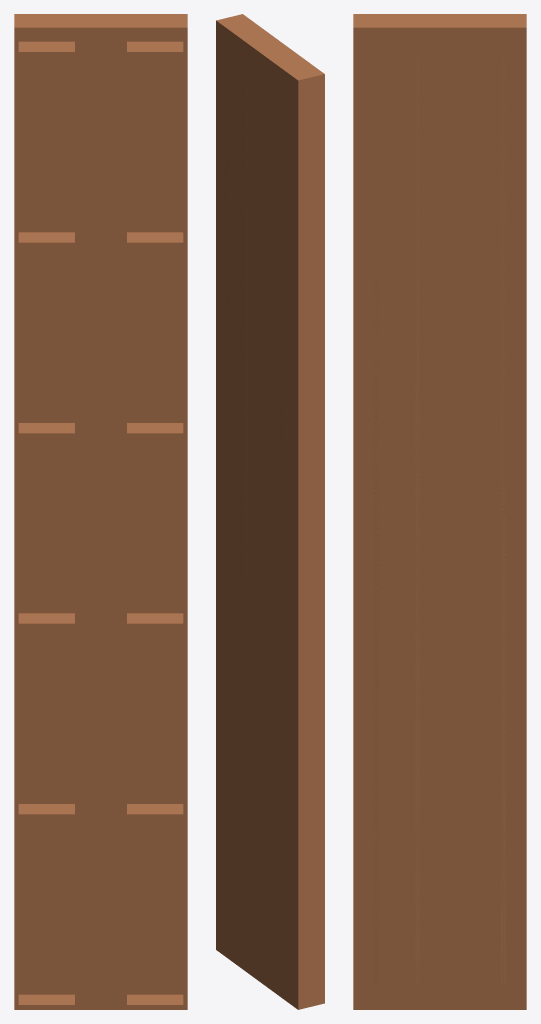
Rendered from side_right.diagnostic.glb.
The picture shows the model from 3 angles, left to right: view 1: azimuth 90°, elevation 25°; view 2: azimuth 210°, elevation 25°; view 3: azimuth 270°, elevation 25°; orthographic projection. The views are drawn at different scales.
Visible parts, largest first — view 1: side_right_mesh; view 2: side_right_mesh; view 3: side_right_mesh.
Boxes of the visible parts, x1,y1,x2,y2 form: side_right_mesh: [14, 14, 187, 1009]; side_right_mesh: [216, 14, 324, 1009]; side_right_mesh: [353, 14, 526, 1009].
Bounding box in the file's own units: 6 × 200 × 32.
